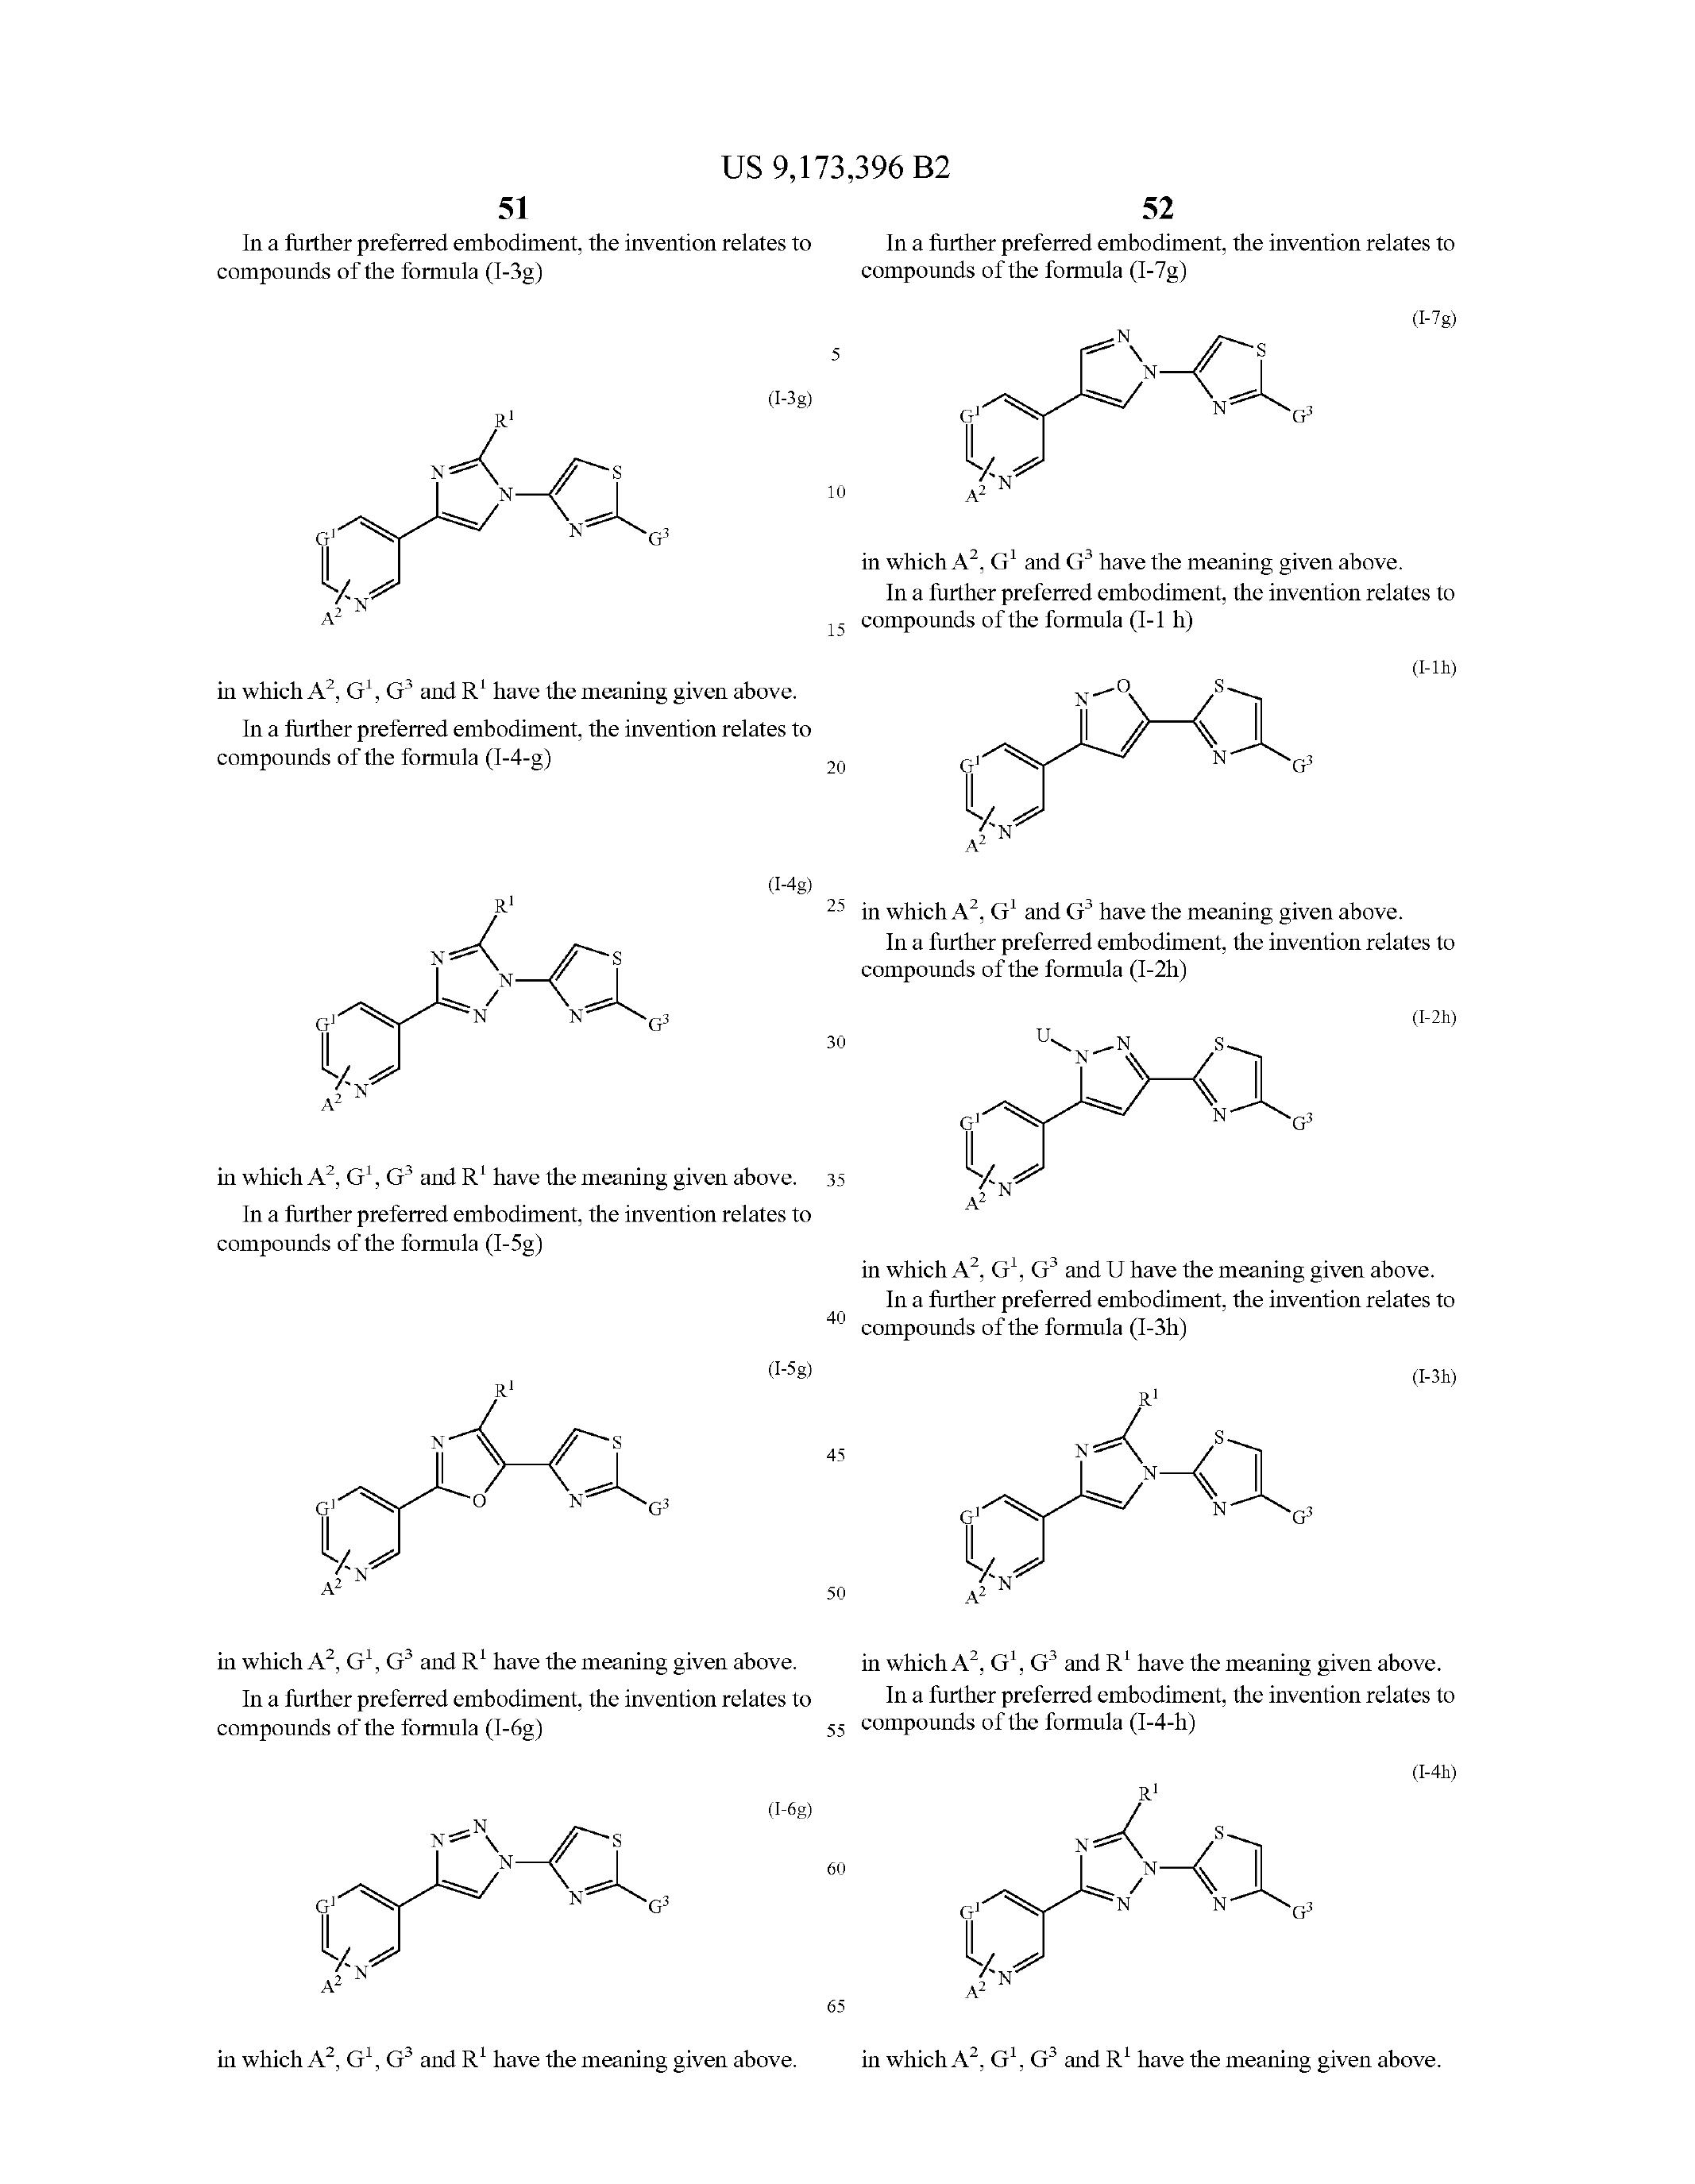substitutes: (211, 1308, 697, 1595)
